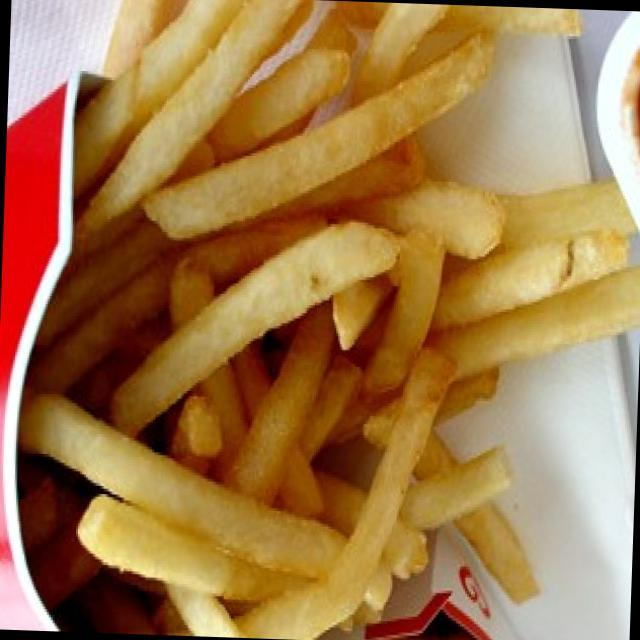French Fries: (83, 0, 609, 614)
